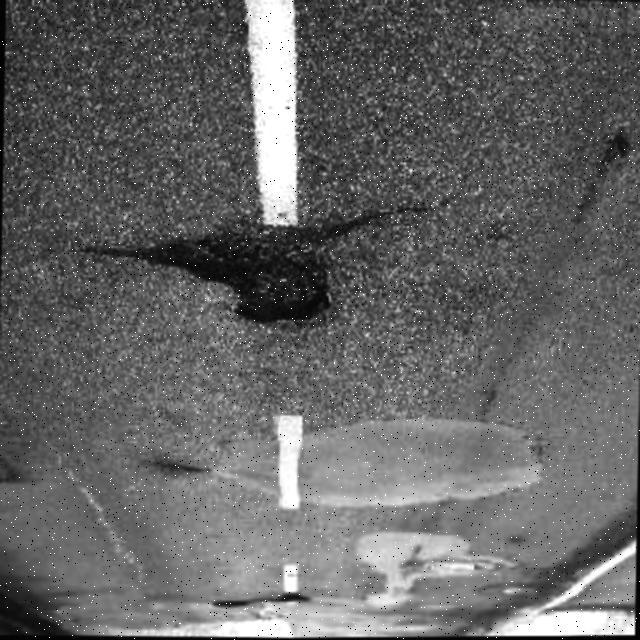pothole: (122, 214, 334, 328), (210, 591, 314, 616)
